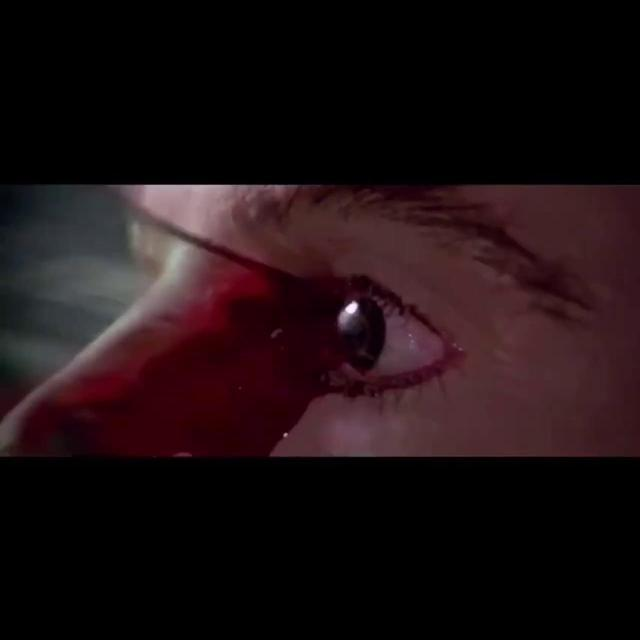blood: (0, 245, 384, 456)
